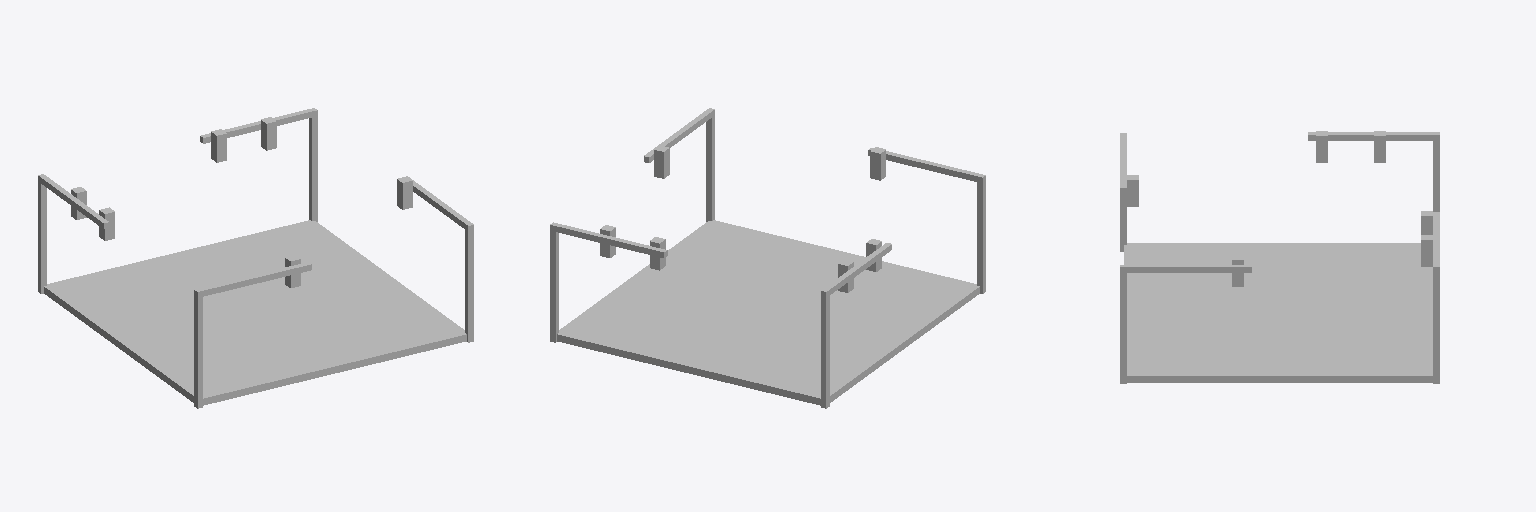
Rendered from inter2211.obj.
The picture shows the model from 3 angles: view 1: azimuth 30°, elevation 25°; view 2: azimuth 150°, elevation 25°; view 3: azimuth 270°, elevation 25°; orthographic projection.
Visible parts, largest first — view 1: 2211_intersection.001_Plane.002; view 2: 2211_intersection.001_Plane.002; view 3: 2211_intersection.001_Plane.002.
Part boxes in pixels (bbox=[...]): 2211_intersection.001_Plane.002: bbox=[38, 108, 473, 408]; 2211_intersection.001_Plane.002: bbox=[550, 108, 985, 408]; 2211_intersection.001_Plane.002: bbox=[1120, 131, 1439, 383].
Bounding box in the file's own units: 4.08 × 1.71 × 4.08.